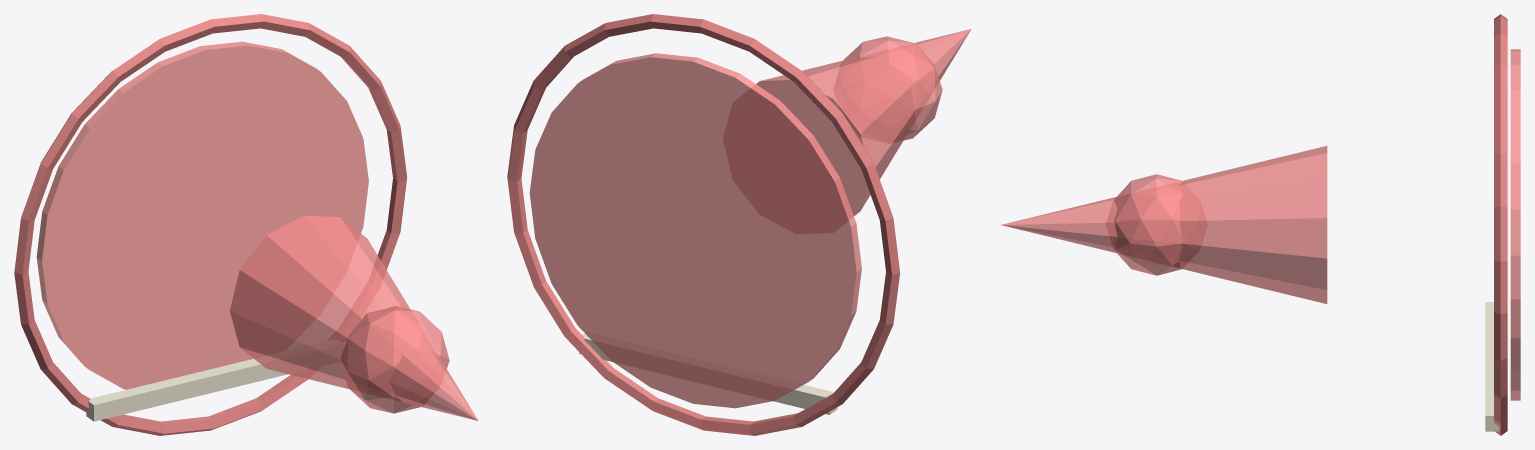
Rendered from 01_ability_vfx_module.glb.
The picture shows the model from 3 angles, left to right: view 1: azimuth 30°, elevation 25°; view 2: azimuth 150°, elevation 25°; view 3: azimuth 270°, elevation 25°; orthographic projection. The views are drawn at different scales.
Visible parts, largest first — view 1: ability_ground_disc, ability_energy_cone, ability_timing_ring, ability_core, directional_flow_mark; view 2: ability_ground_disc, ability_timing_ring, ability_energy_cone, directional_flow_mark, ability_core; view 3: ability_energy_cone, ability_core, ability_timing_ring, ability_ground_disc, directional_flow_mark.
Boxes of the visible parts, x1,y1,x2,y2 form: ability_ground_disc: (36, 41, 368, 389); ability_energy_cone: (230, 215, 478, 420); ability_timing_ring: (14, 14, 406, 435); ability_core: (340, 306, 449, 413); directional_flow_mark: (86, 340, 343, 421); ability_ground_disc: (529, 53, 861, 408); ability_timing_ring: (507, 14, 899, 435); ability_energy_cone: (756, 29, 971, 215); directional_flow_mark: (579, 332, 837, 414); ability_core: (843, 36, 942, 140); ability_energy_cone: (1001, 146, 1327, 303); ability_core: (1114, 174, 1183, 275); ability_timing_ring: (1494, 14, 1507, 435); ability_ground_disc: (1510, 49, 1520, 400); directional_flow_mark: (1485, 302, 1499, 431).
Bounding box in the file's own units: 1.49 × 1.49 × 1.83.
